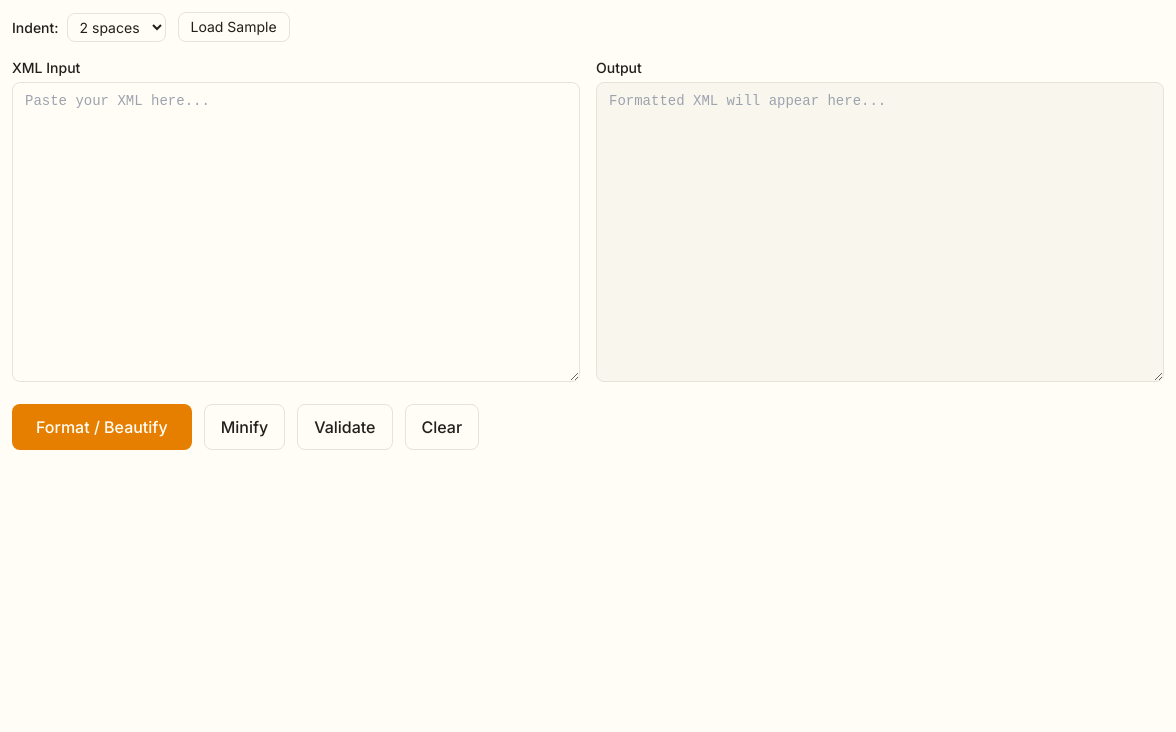
Test: XmlFormatter › validates valid XML and shows success message
This screenshot has width=1176, height=732.
Type "<root><child>text</child></root>" into the text box with placeholder "Paste your XML here..." at {"x": 296, "y": 232}, box [12,82,580,382]
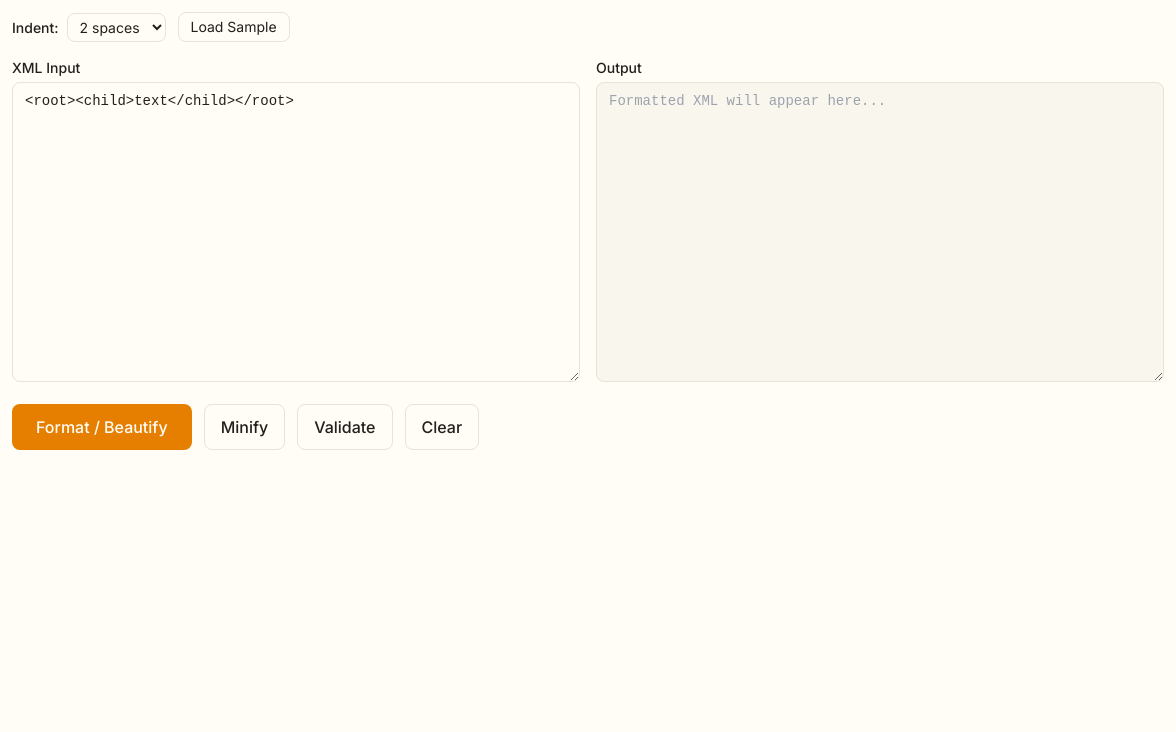
Click the button "Validate" at {"x": 345, "y": 427}, box [297,404,392,450]
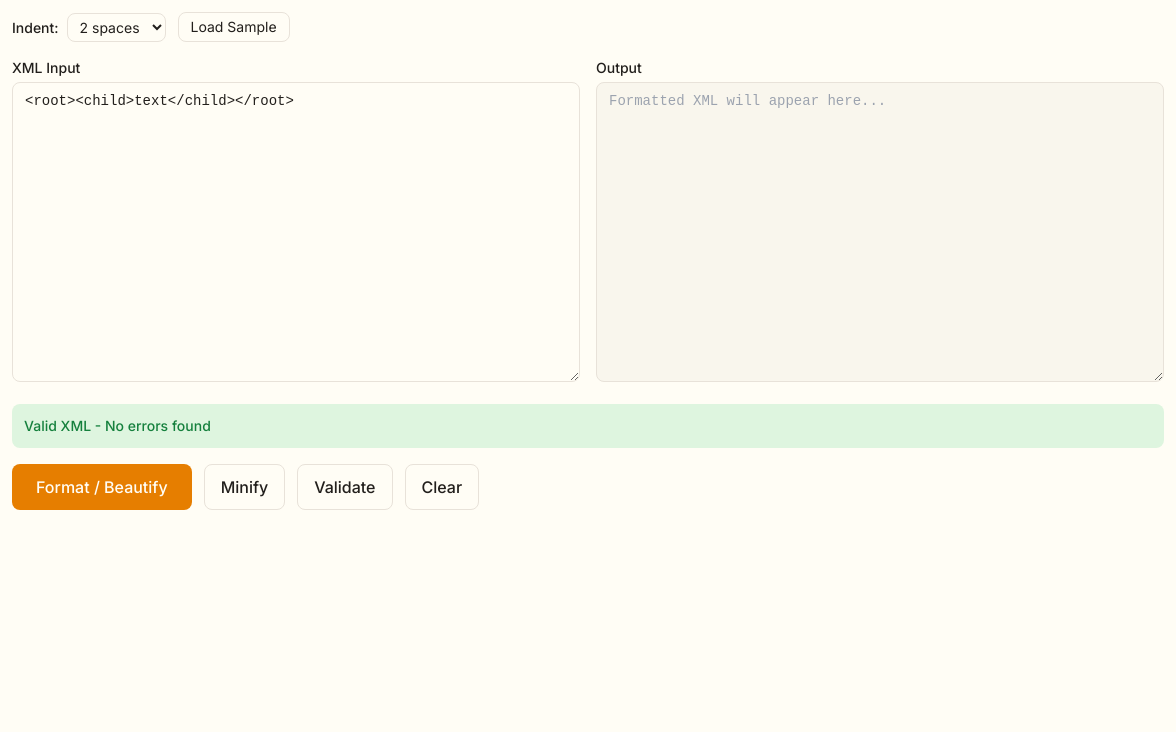
Expected: the text "Valid XML - No errors found" is shown, [24,417,211,434]
